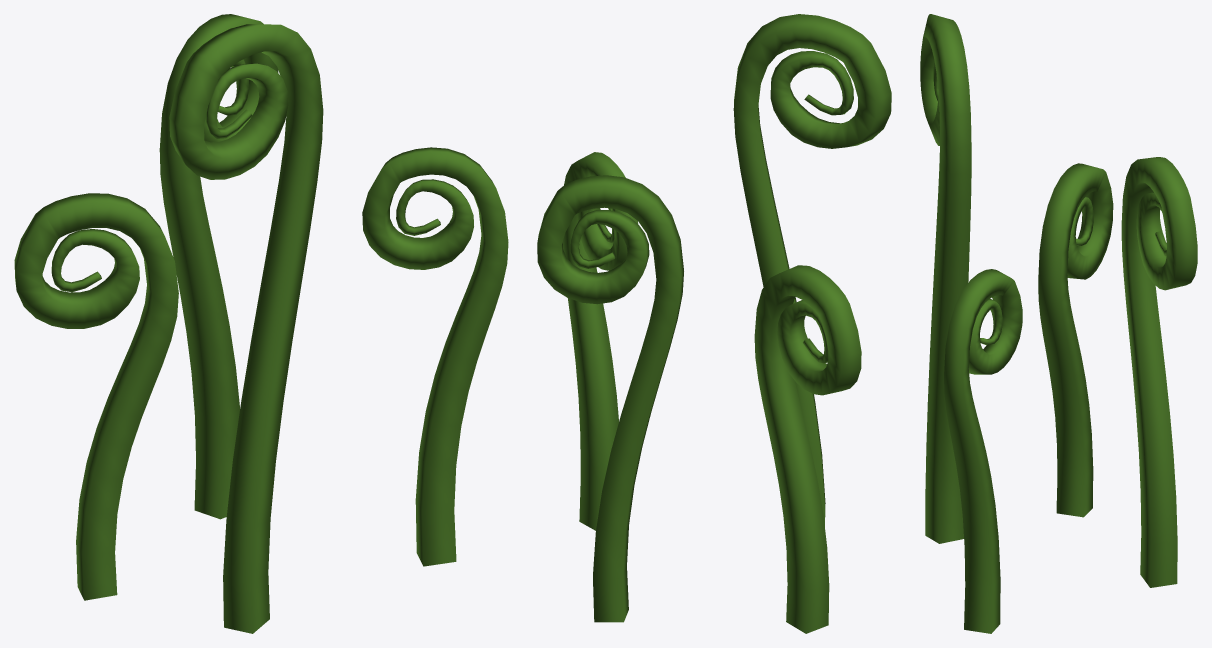
The model's file is plant_3.glb.
The picture shows the model from 3 angles, left to right: view 1: azimuth 30°, elevation 25°; view 2: azimuth 150°, elevation 25°; view 3: azimuth 270°, elevation 25°; orthographic projection. The views are drawn at different scales.
Visible parts, largest first — view 1: Plant_3; view 2: Plant_3; view 3: Plant_3.
Part boxes in pixels (left/top/right/bottom): Plant_3: left=14, top=14, right=508, bottom=633; Plant_3: left=537, top=14, right=891, bottom=633; Plant_3: left=920, top=14, right=1197, bottom=633.
Bounding box in the file's own units: 2.12 × 2.98 × 1.44.
1 material, 1 textured.
